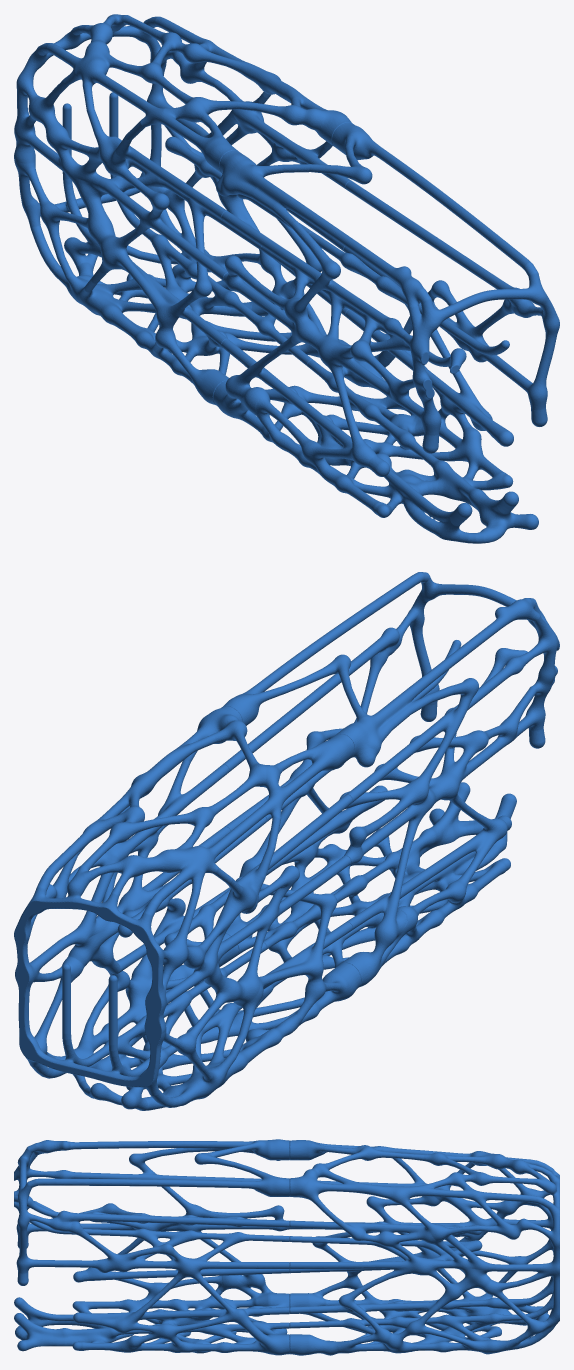
The model's file is egg_dispenser.glb.
3 renders of one model, top to bottom at view 1: azimuth 30°, elevation 25°; view 2: azimuth 150°, elevation 25°; view 3: azimuth 270°, elevation 25°, orthographic. The views are drawn at different scales.
Parts seen in each view (by area): view 1: grown_3_back.stl; view 2: grown_3_back.stl; view 3: grown_3_back.stl.
Part boxes in pixels (x1,y1,x2,y2): grown_3_back.stl: [14, 14, 559, 543]; grown_3_back.stl: [14, 572, 559, 1110]; grown_3_back.stl: [14, 1139, 559, 1355].
Size of the model in its own units: 0.0943 by 0.1447 by 0.389.
